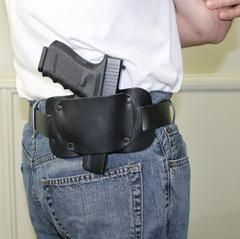gun: (37, 39, 125, 175)
